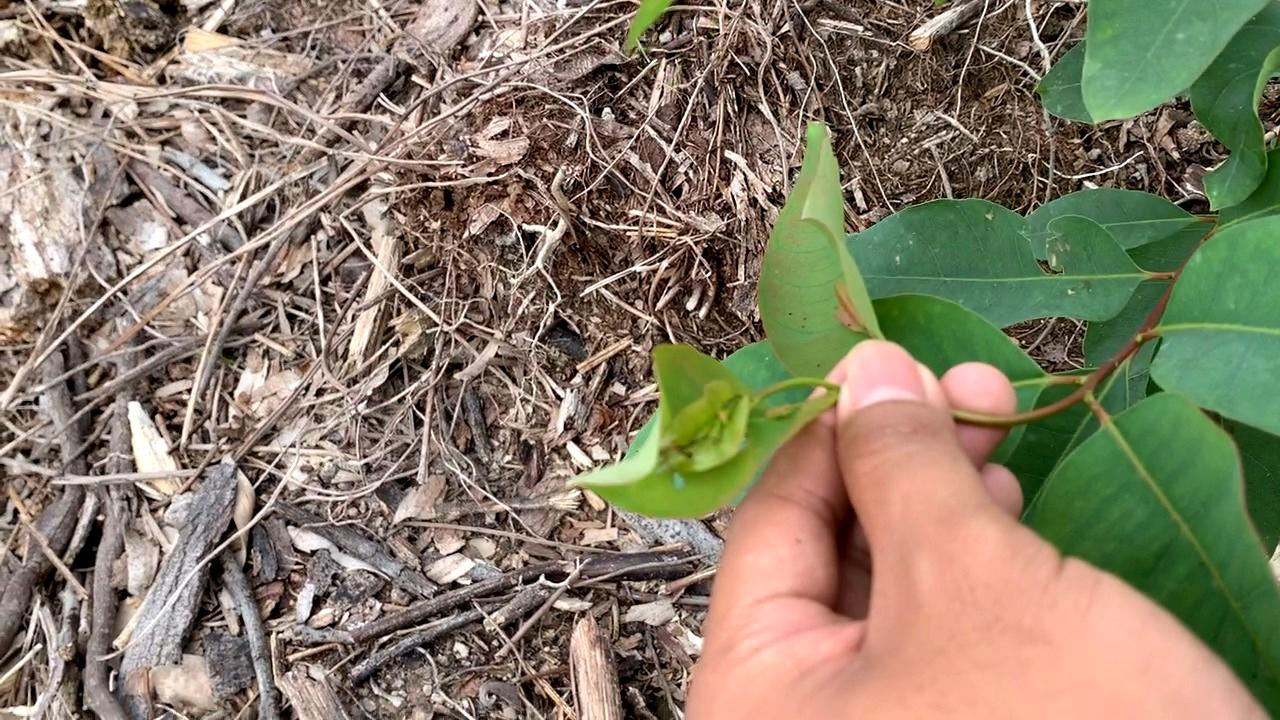Leaf Roller - Leaf: (576, 341, 836, 534)
